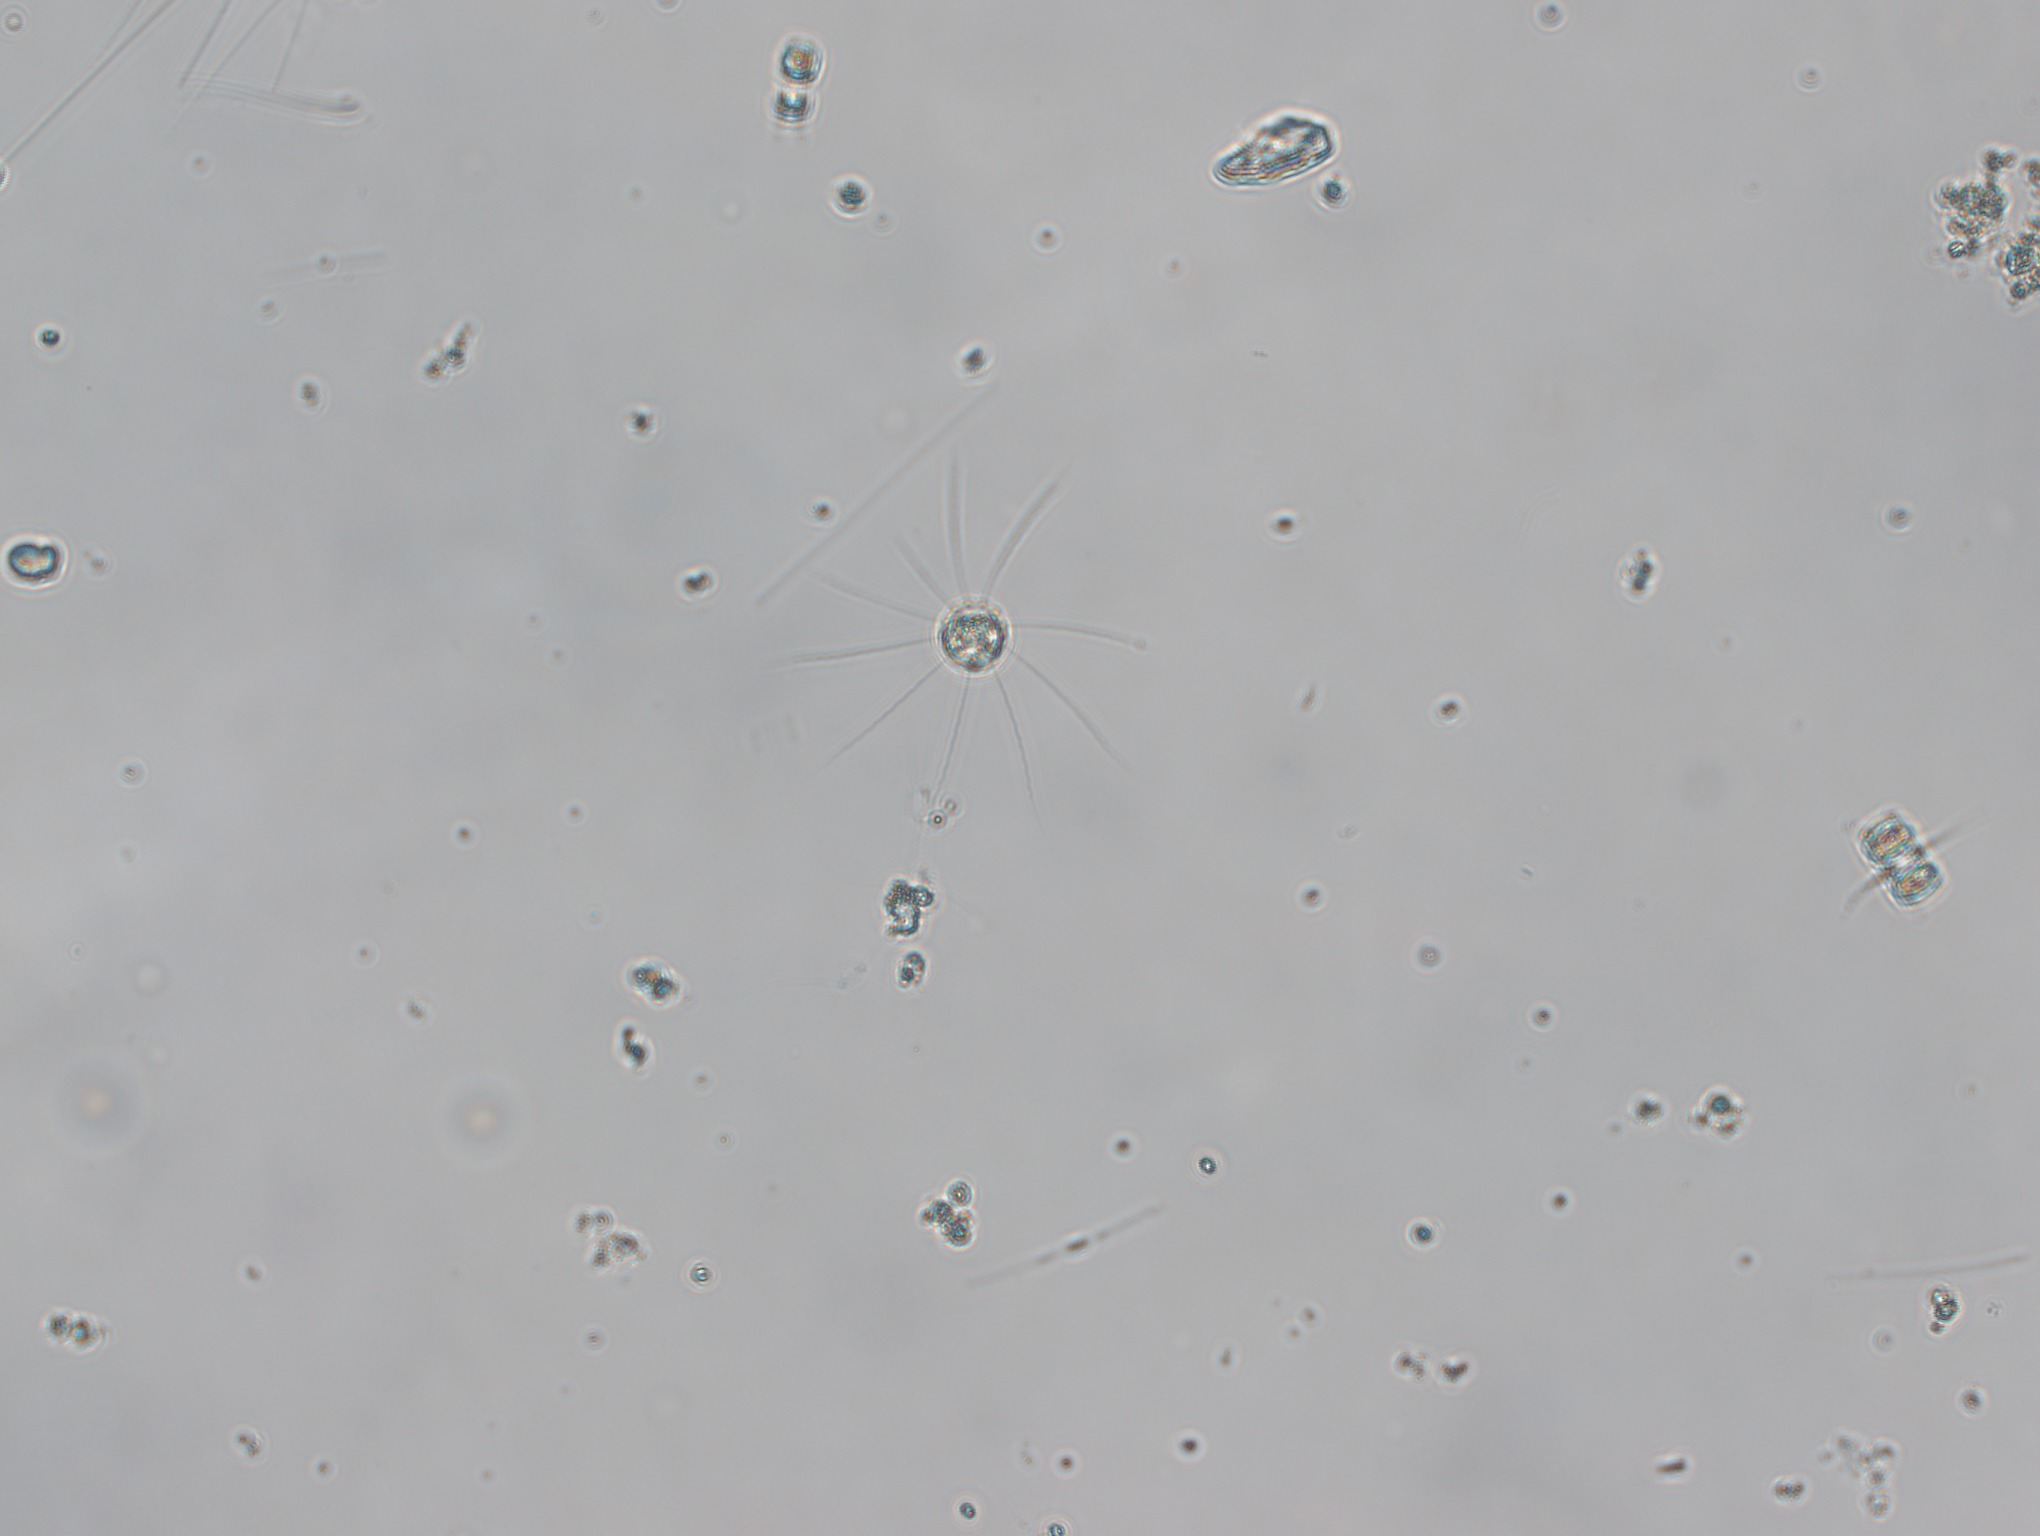bacteriastrum: (772, 458, 1164, 828)
chaetoceros: (1843, 794, 1967, 913)
